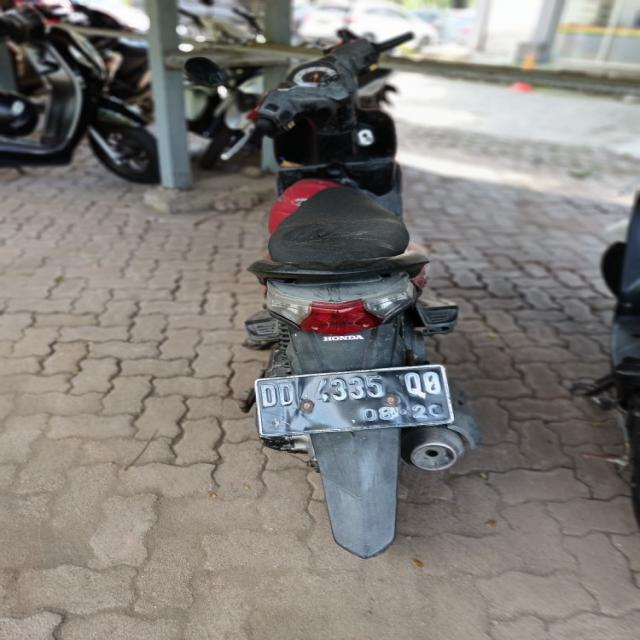plates: (248, 360, 465, 437)
